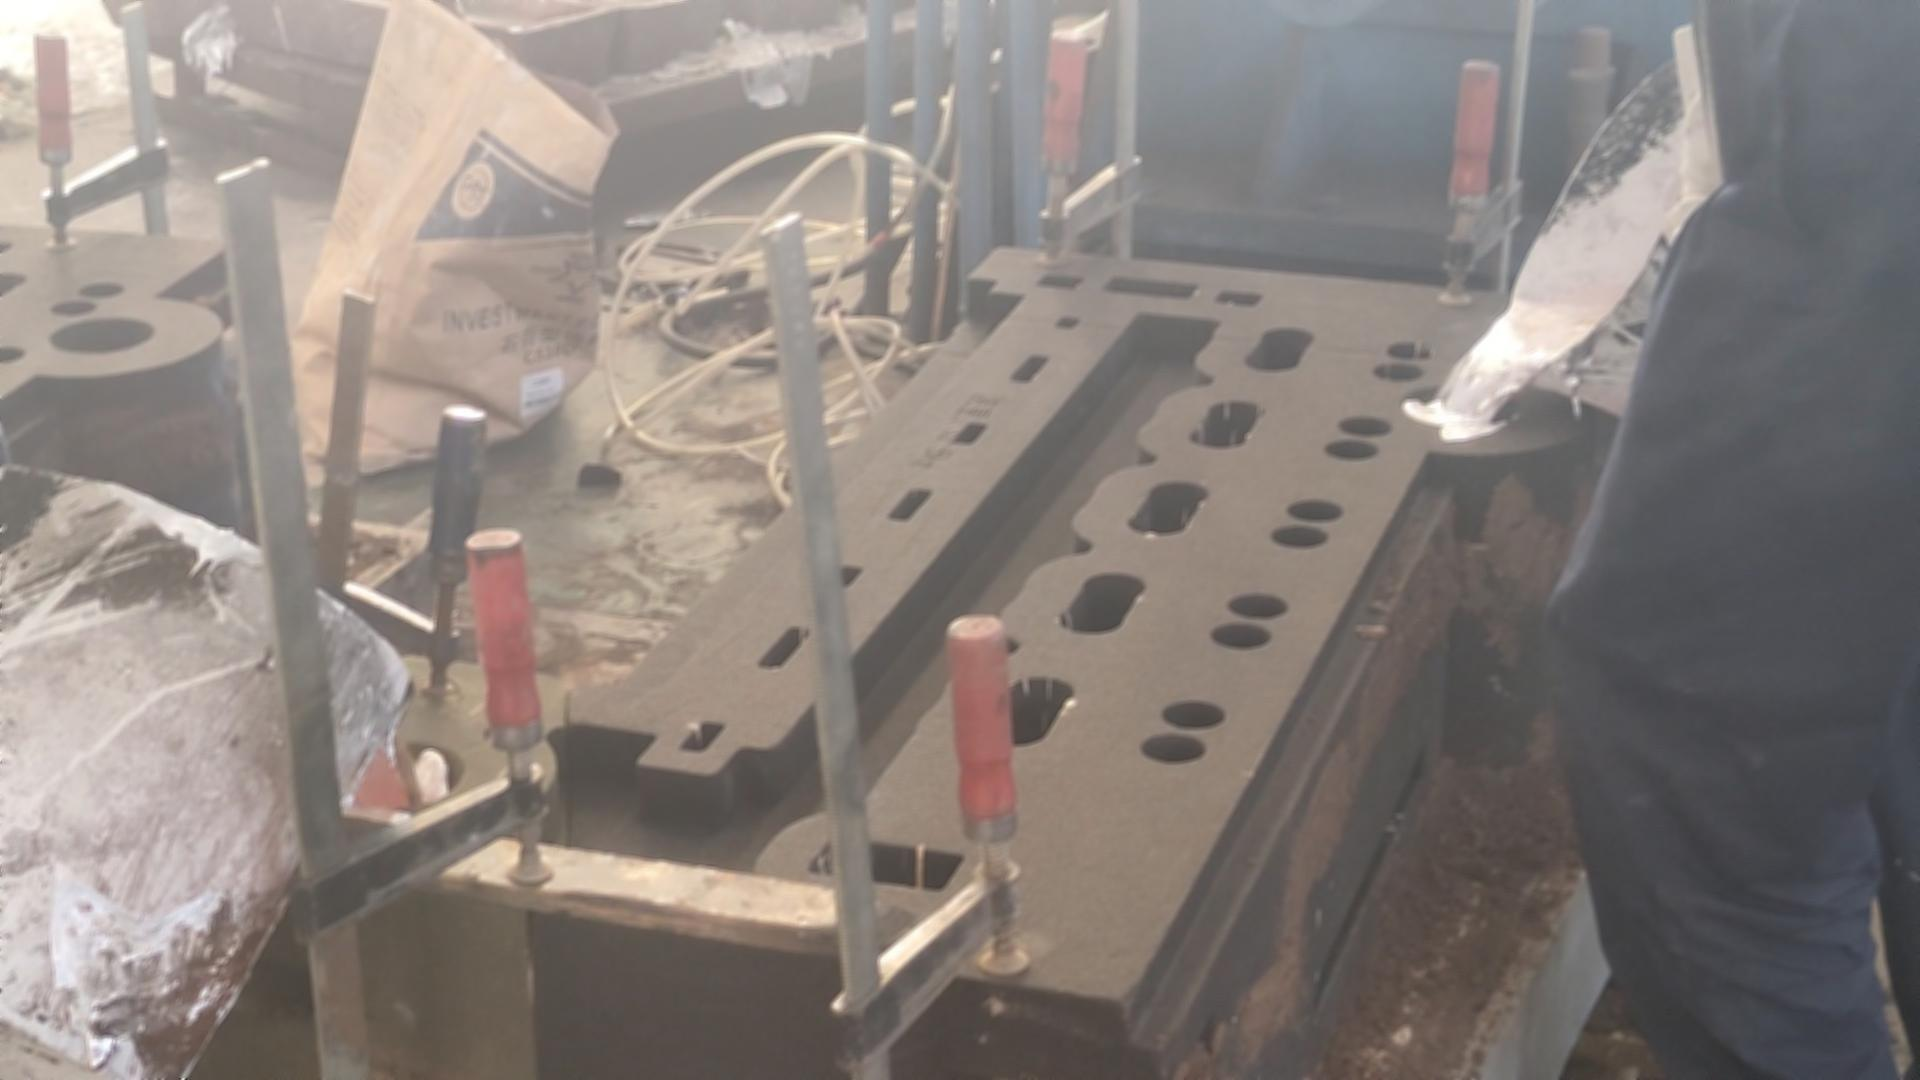pouring hole: (338, 738, 467, 810), (1400, 382, 1527, 426), (47, 316, 156, 353)
